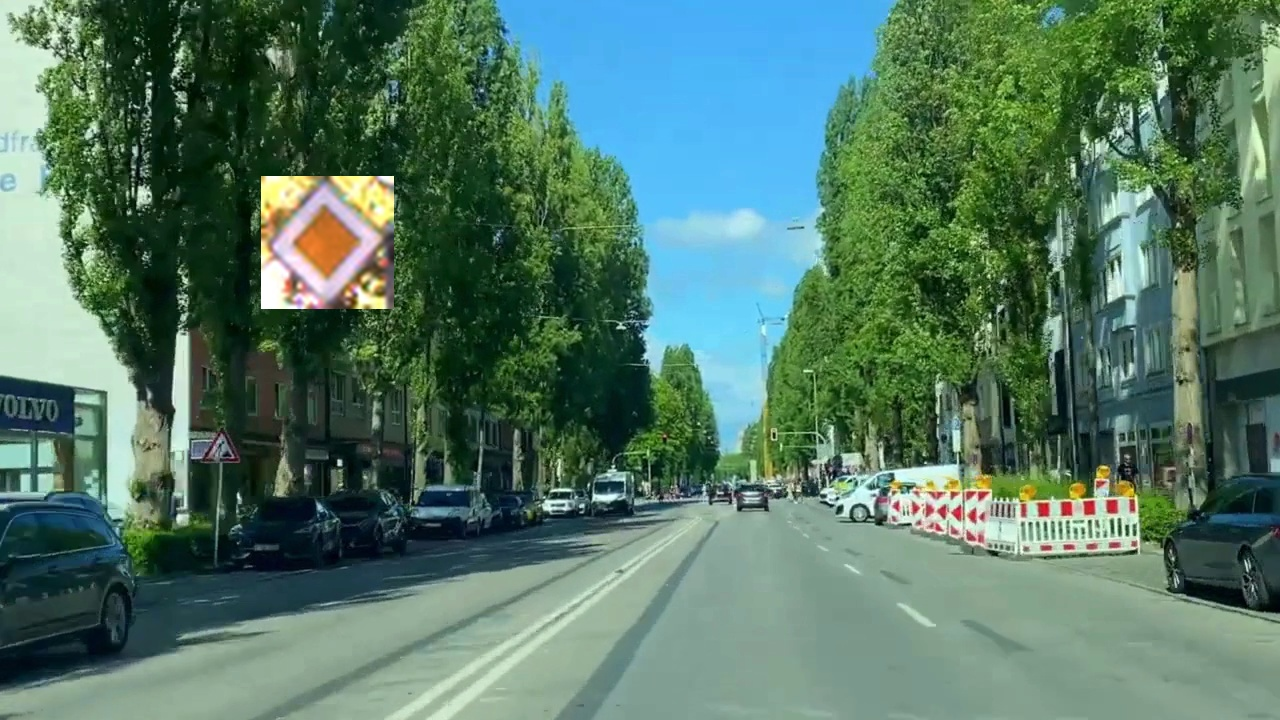Priority road: (261, 176, 394, 309)
